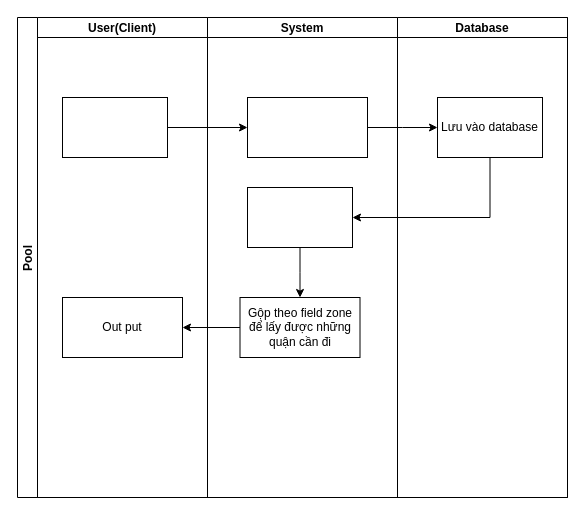
This 585x515 diagram has some shape labels left out. Each missing label, with the centre of its shape:
Input: the point at 115,127
input đã qua xử lý (tính chu kỳ lấy hàng, tính thời gian gợi ý): the point at 307,127
Query dữ liệu: the point at 299,217
